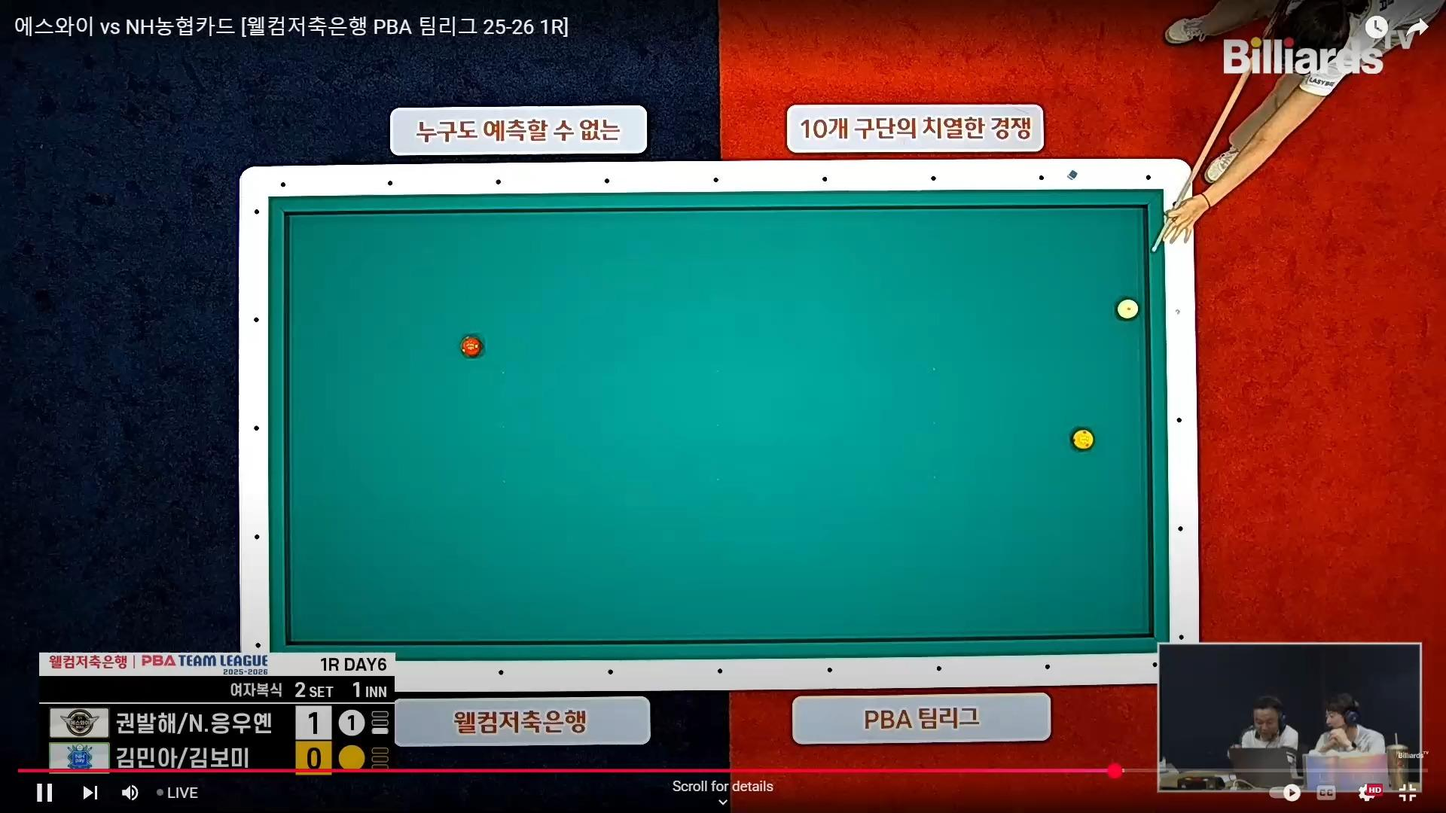billiard-ball-Red: (456, 336, 486, 358)
billiard-ball-Yellow: (1071, 422, 1097, 454)
billiard-ball-white: (1115, 296, 1139, 322)
